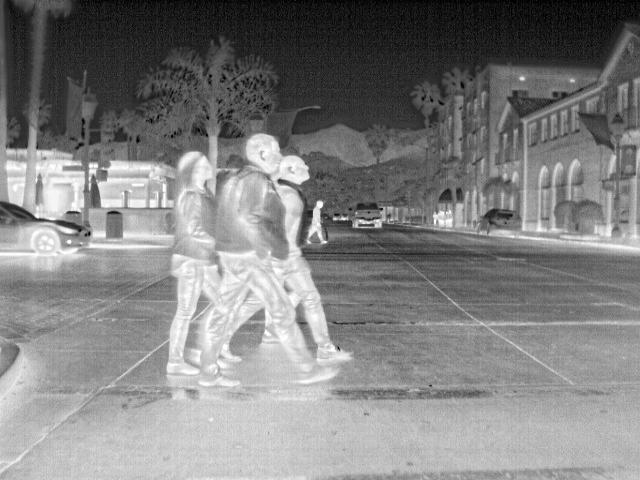car: (1, 201, 92, 257), (477, 209, 527, 239), (352, 202, 388, 232)
person: (197, 132, 343, 390), (272, 152, 359, 366), (163, 150, 227, 375), (303, 198, 331, 246), (430, 210, 442, 228)
